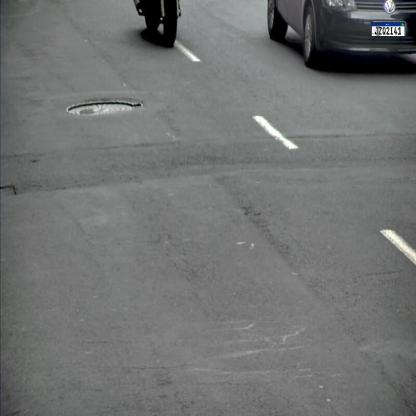PlacaM: (371, 22, 405, 37)
